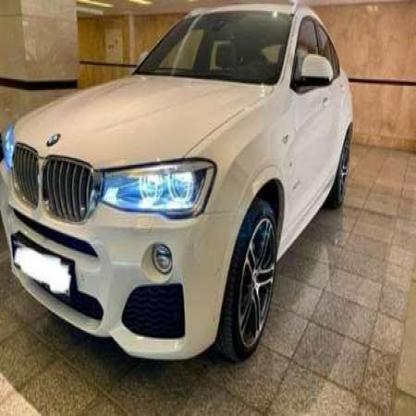Car: (0, 0, 354, 381)
